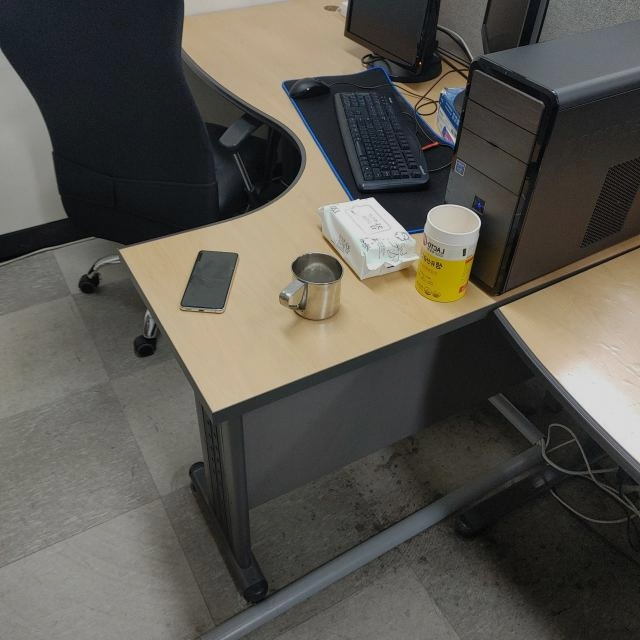cup: (280, 250, 344, 321)
phone: (178, 249, 240, 315)
